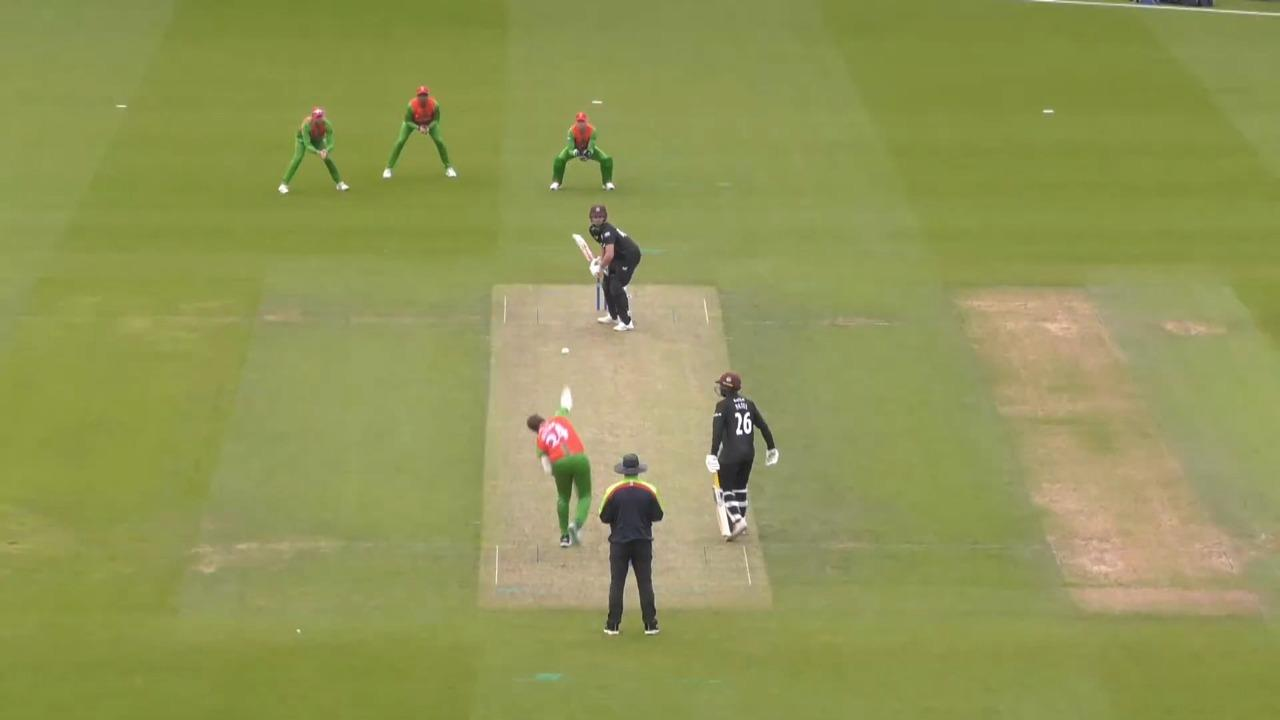sports ball: (562, 347, 569, 353)
